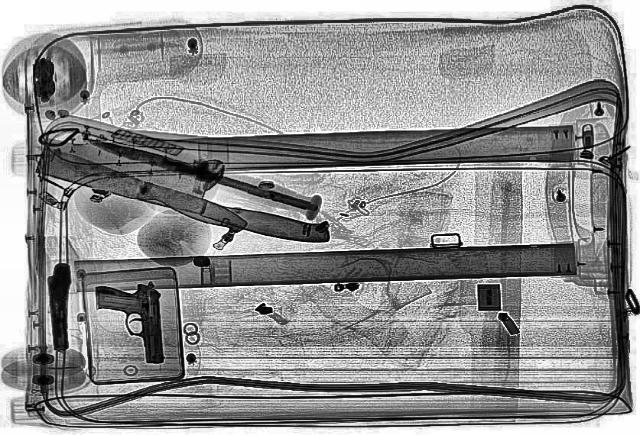Gun: (92, 281, 166, 365), (46, 264, 72, 352)
Knife: (18, 132, 350, 252), (18, 143, 255, 235), (80, 132, 316, 212)
